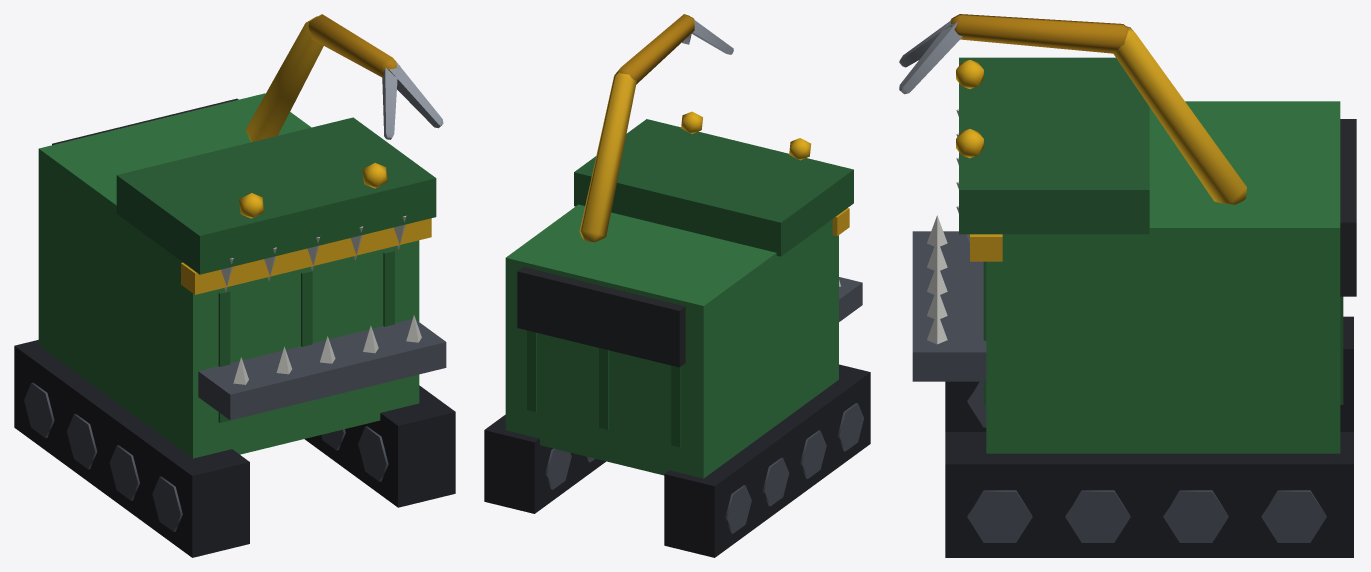
File: e_maschinen_muellpresse.glb
3 renders of one model, left to right at view 1: azimuth 30°, elevation 25°; view 2: azimuth 150°, elevation 25°; view 3: azimuth 270°, elevation 25°, orthographic. The views are drawn at different scales.
Visible parts, largest first — view 1: body; view 2: body; view 3: body.
Part boxes in pixels (<box>): body: <box>14,14,455,557</box>; body: <box>484,14,870,557</box>; body: <box>899,14,1356,557</box>.
Size of the model in its own units: 1.43 by 2.27 by 1.85.
